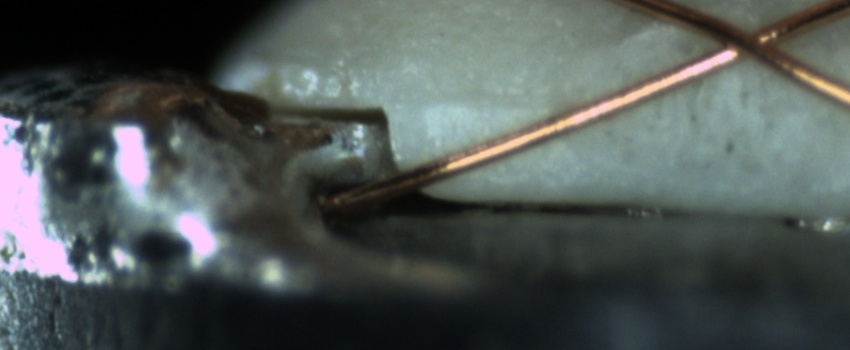CL: (688, 8, 797, 76)
DL: (416, 72, 557, 132)
